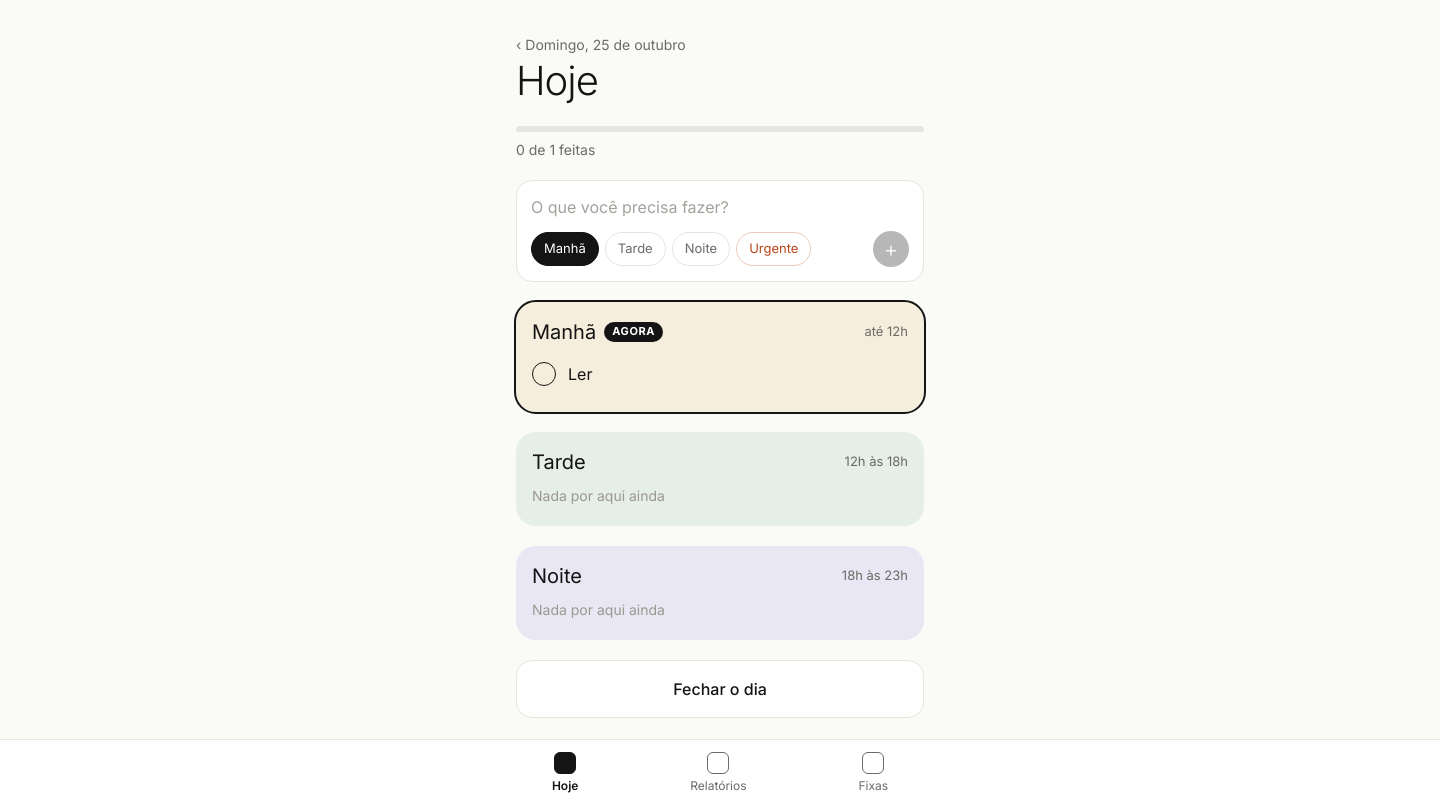
it: J3 (revisão do autor): o usuário fica ciente e pode desfazer › marcar avisa como desmarcar
The image size is (1440, 810).
Click the checkbox named "Marcar como feita: Ler".
click(544, 374)  # box [532,362,556,386]
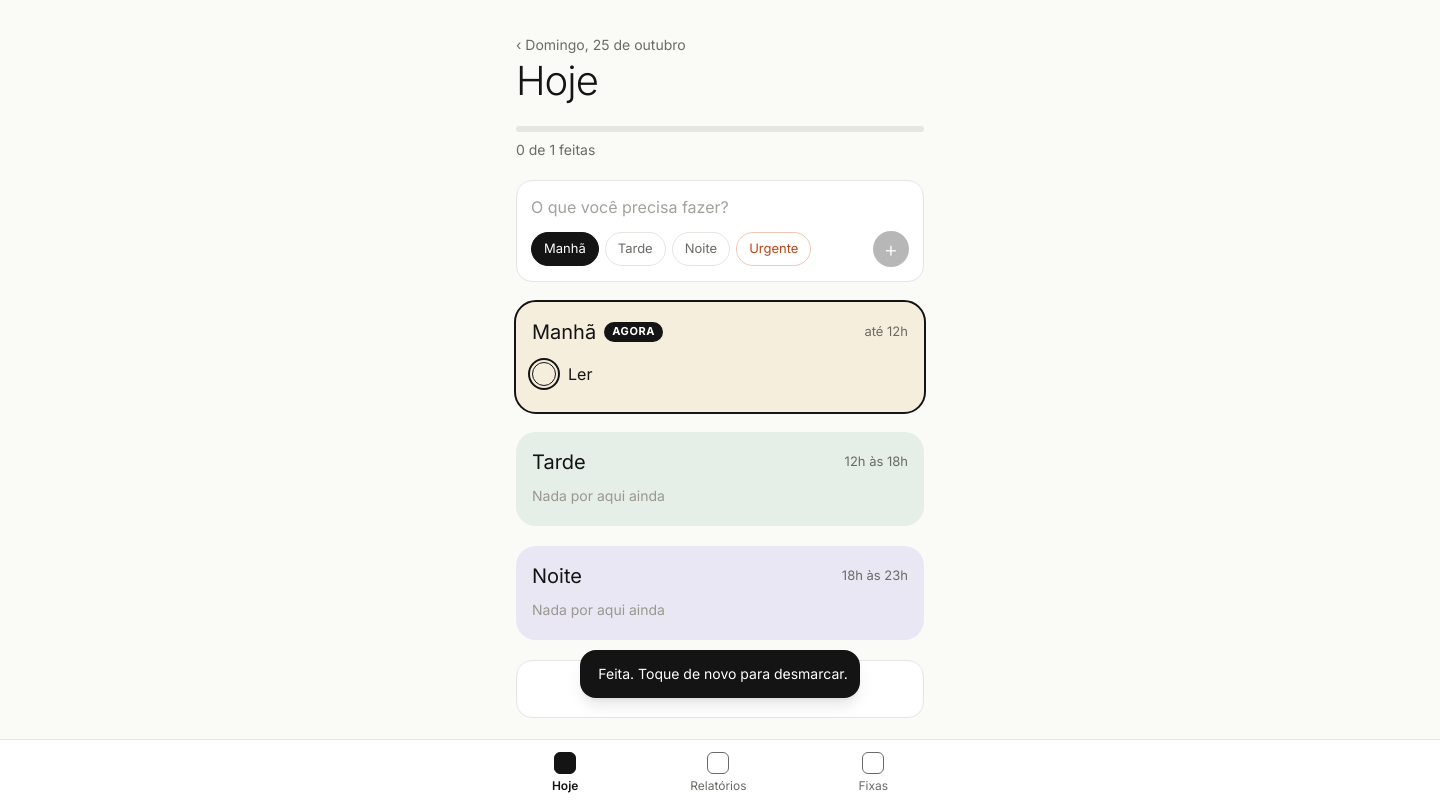
Check: the text "Feita. Toque de novo para desmarcar." is shown, box [598,664,848,684]
